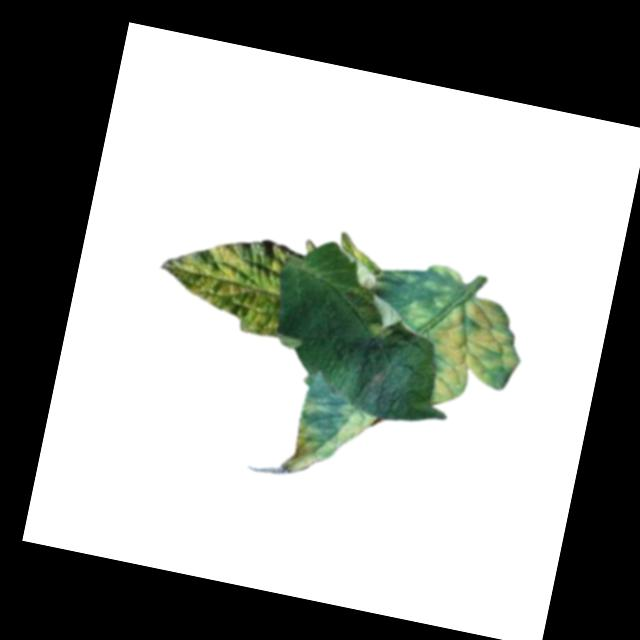Leaf_Mold: (148, 219, 294, 342), (417, 292, 532, 420), (286, 395, 381, 491), (397, 296, 431, 330), (363, 319, 397, 349)
